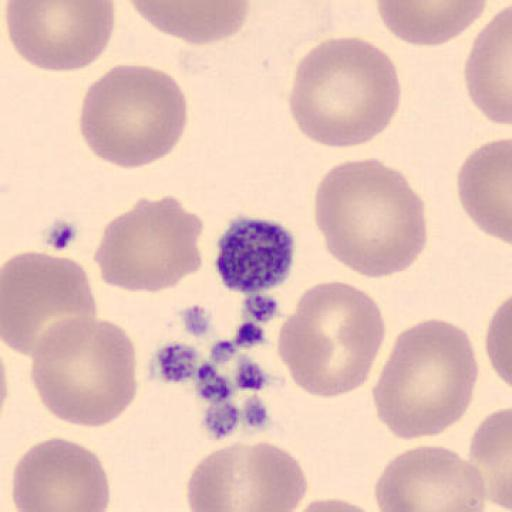Platelet: (211, 212, 298, 294)
RBC: (312, 156, 429, 281), (371, 316, 479, 441), (288, 35, 402, 151), (277, 278, 386, 398), (28, 316, 140, 429), (78, 62, 188, 171), (93, 194, 206, 294), (2, 249, 98, 358), (184, 438, 309, 512), (4, 0, 118, 75), (372, 443, 488, 512), (10, 434, 112, 512), (455, 136, 512, 246), (463, 2, 512, 128), (126, 0, 252, 45), (374, 0, 488, 47), (468, 406, 512, 512), (483, 292, 512, 394), (266, 492, 392, 512), (285, 495, 385, 512)
